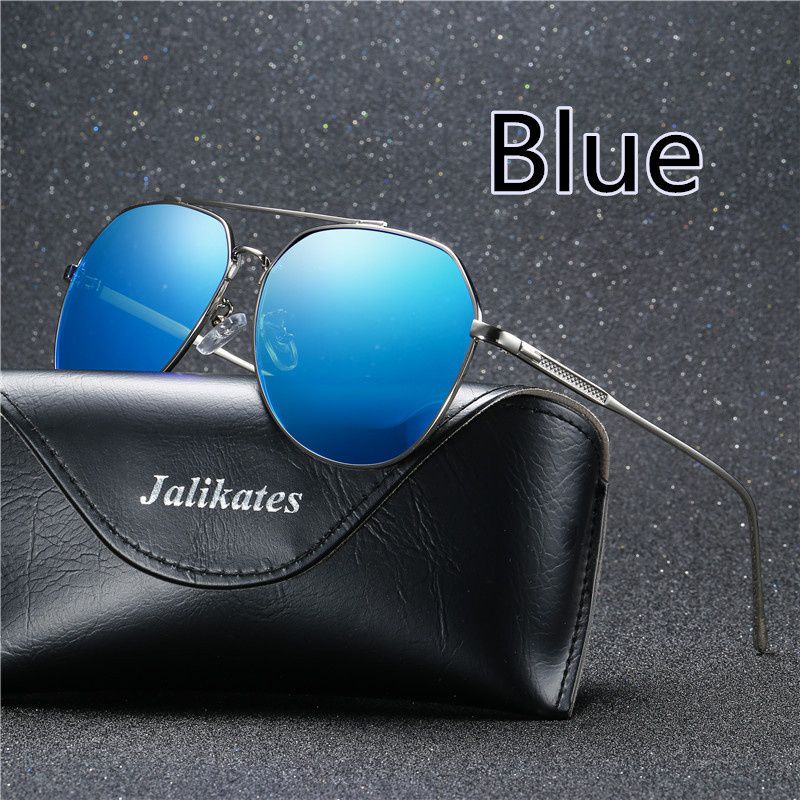sunglasses: (44, 185, 800, 676)
